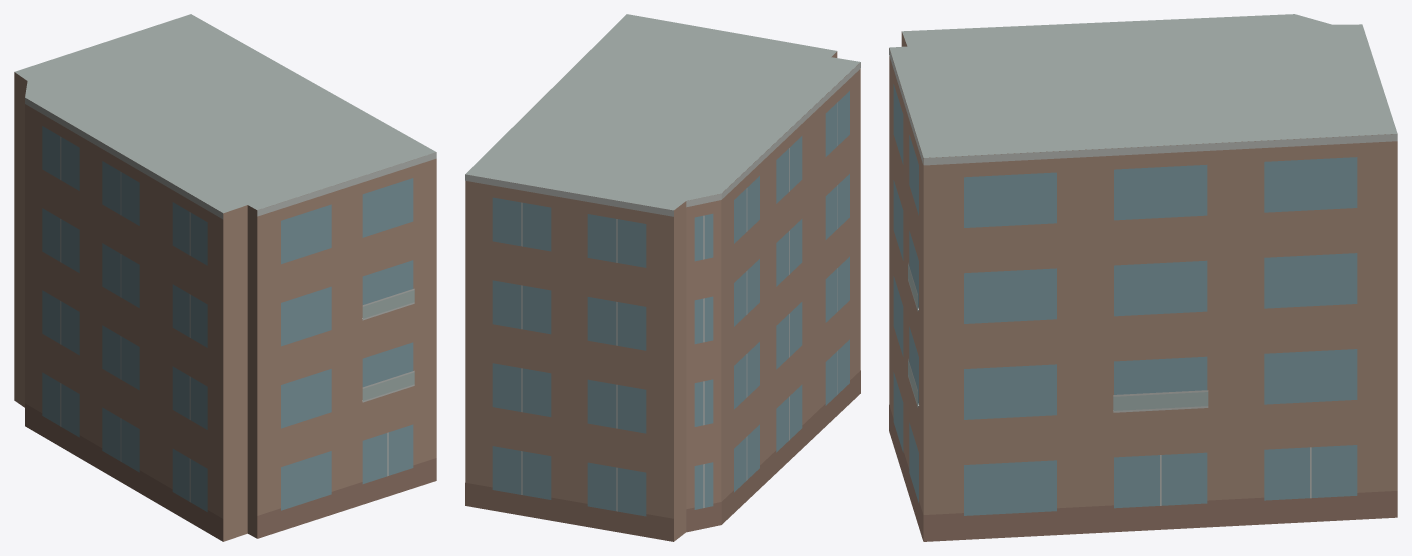
Rendered from survey-upis-32954769.glb.
The picture shows the model from 3 angles, left to right: view 1: azimuth 30°, elevation 25°; view 2: azimuth 150°, elevation 25°; view 3: azimuth 270°, elevation 25°; orthographic projection. The views are drawn at different scales.
Visible parts, largest first — view 1: survey-upis-32954769.tmp; view 2: survey-upis-32954769.tmp; view 3: survey-upis-32954769.tmp.
Part boxes in pixels (<box>): survey-upis-32954769.tmp: <box>14,14,436,541</box>; survey-upis-32954769.tmp: <box>465,14,860,541</box>; survey-upis-32954769.tmp: <box>889,14,1397,541</box>.
Bounding box in the file's own units: 10.15 × 12.6 × 15.14.
